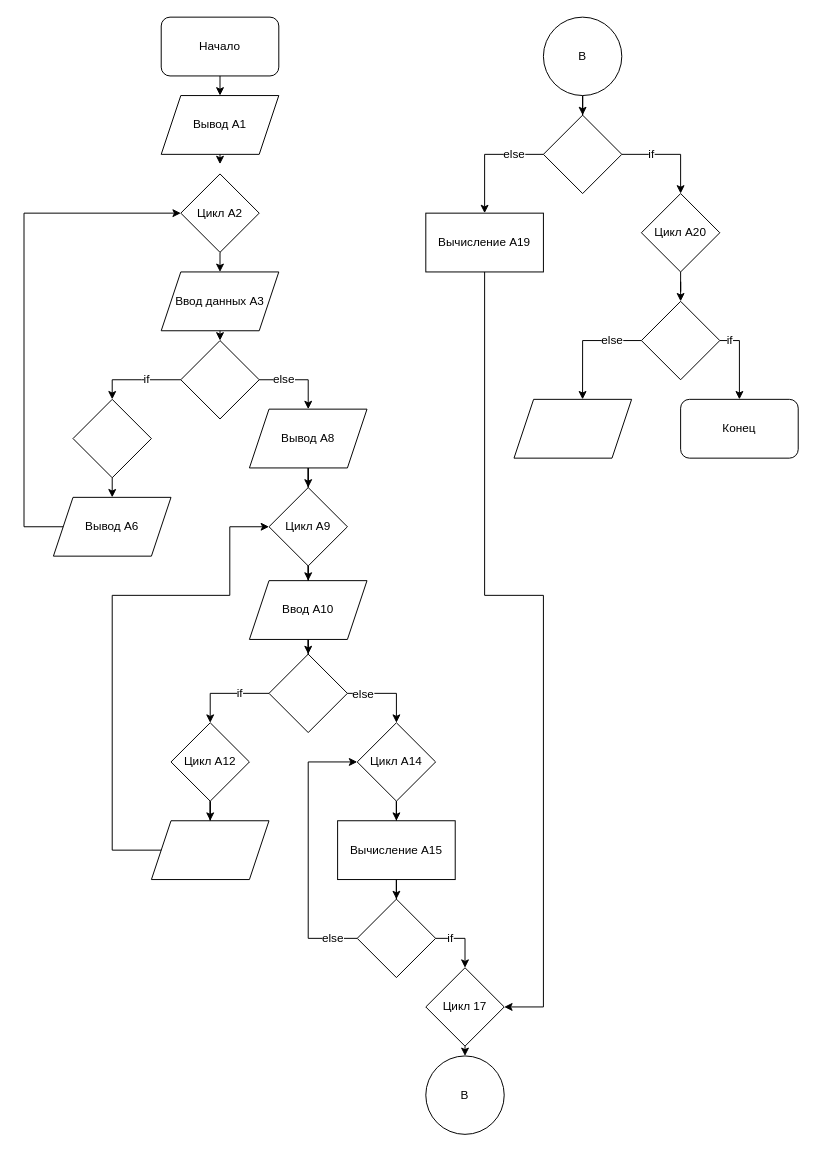
Some shapes in this 815 by 1152 pixel diagram are drawn without their labels. Here are the shapes that lost their labels. From the top down, the box of each, then its label:
(542, 114, 622, 194): Ветвление А18
(640, 300, 720, 380): Ветвление А21
(180, 340, 259, 419): Ветвление А4
(72, 398, 151, 478): Цикл А5
(513, 398, 632, 458): Вывод А22
(268, 653, 347, 733): Ветвление А11
(150, 820, 269, 880): Вывод А13
(356, 898, 436, 978): Ветвление А16
